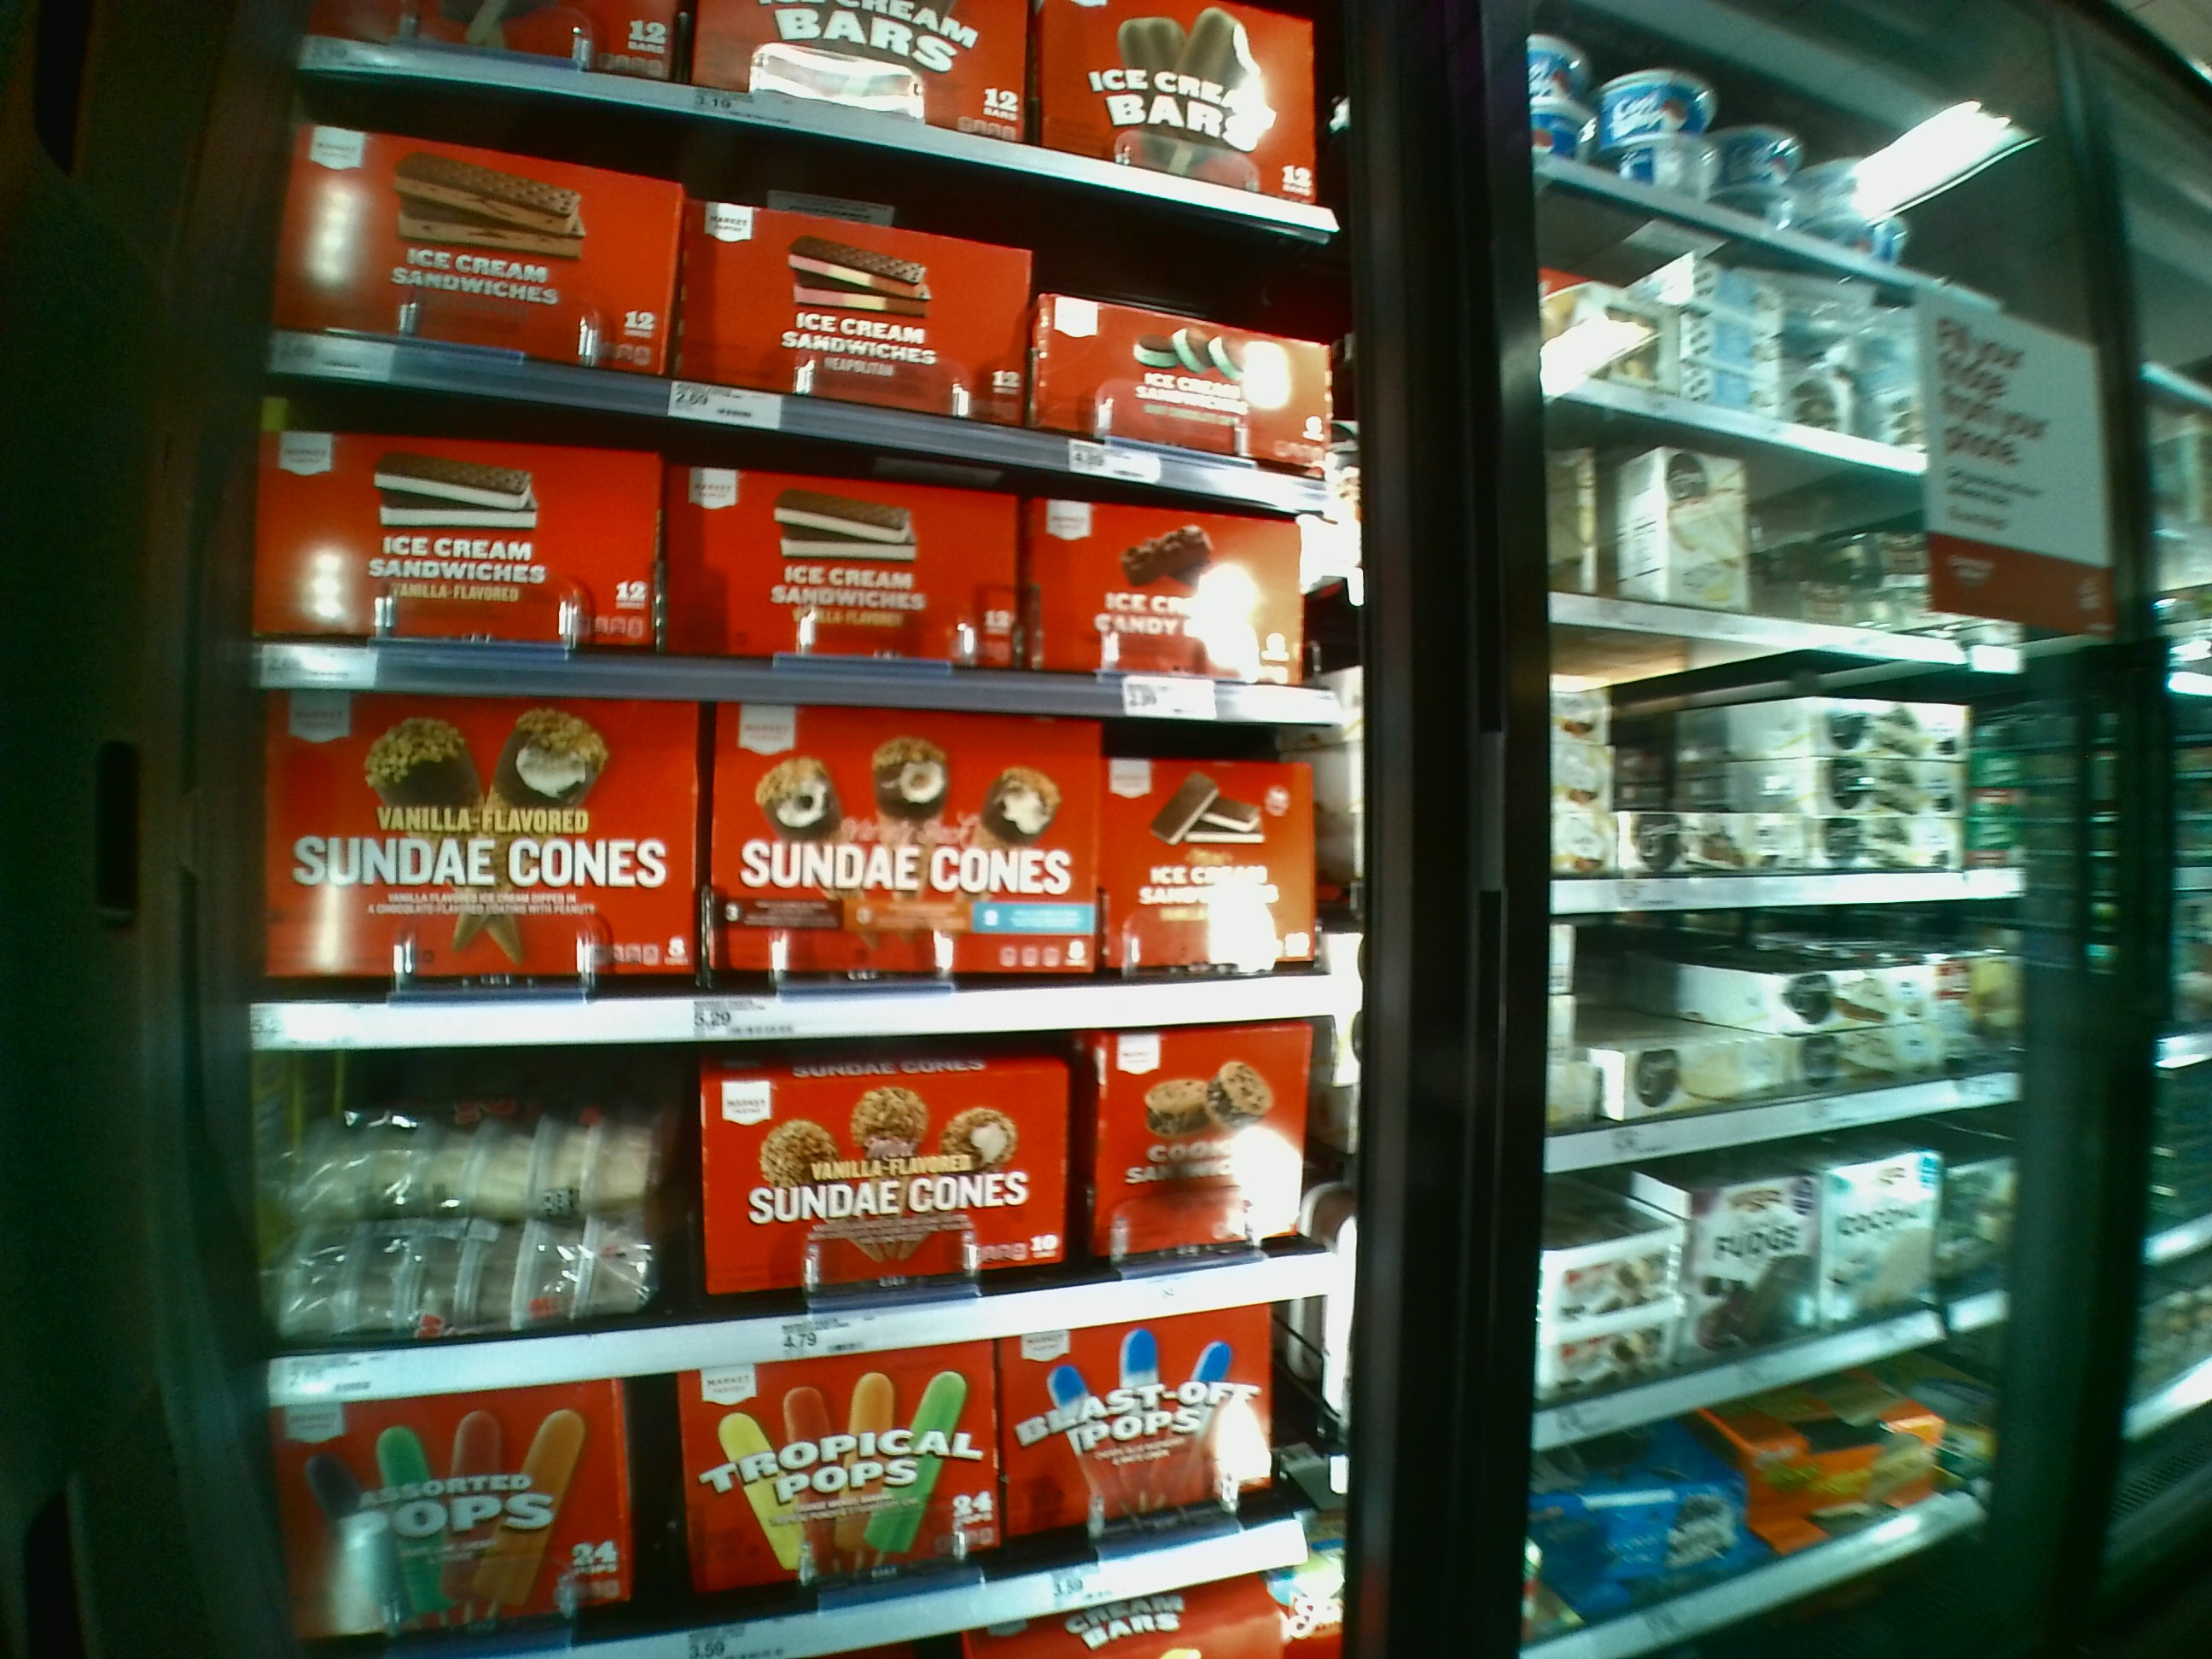shelf: (240, 718, 1381, 1035), (268, 1035, 1371, 1358), (265, 139, 1332, 464), (249, 439, 1338, 739)
